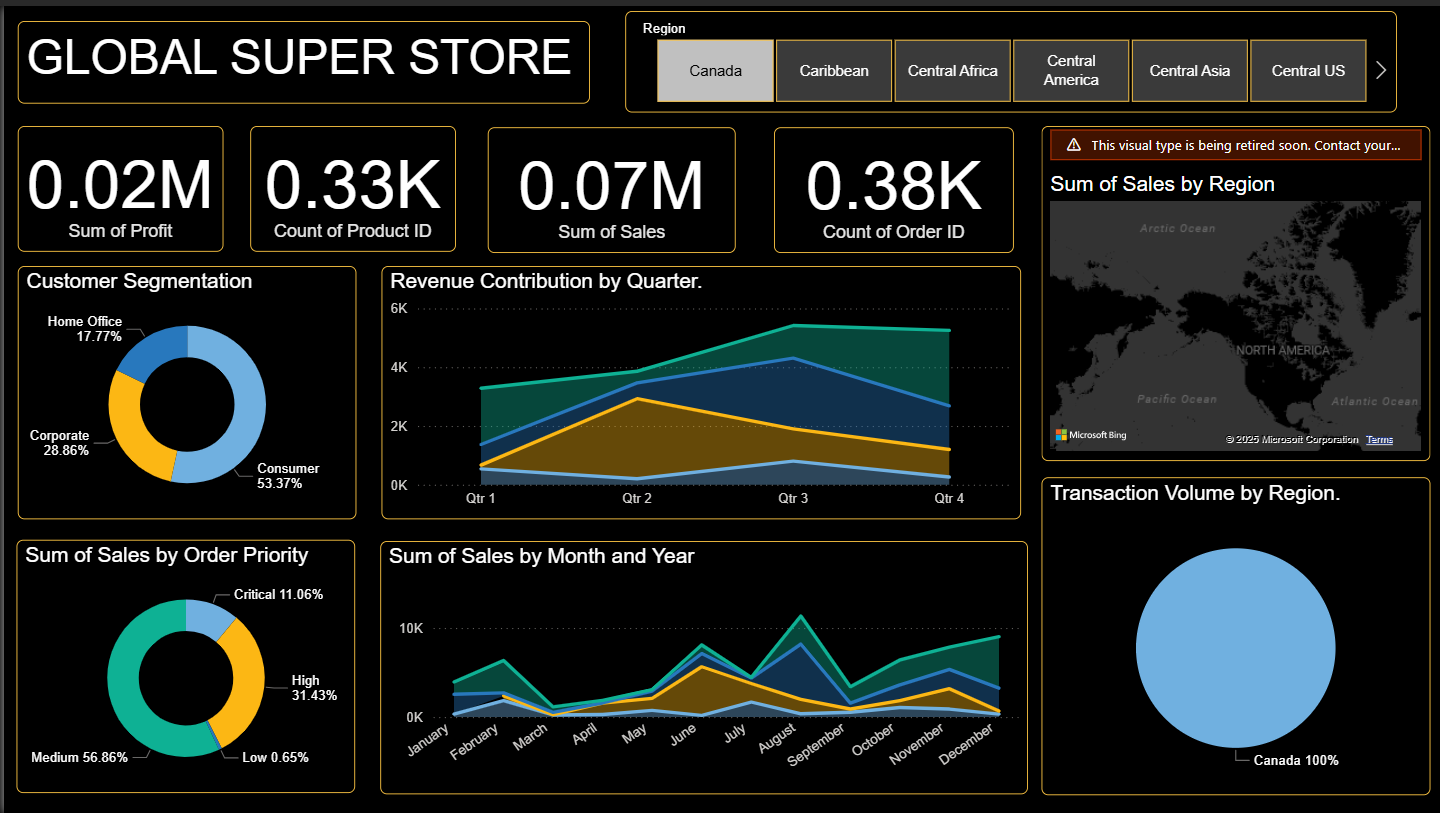

This screenshot's page, from the dashboard's own definition file:
{"tool":"powerbi","page":{"name":"Page 1","canvas":[1280,720],"ordinal":0},"visuals":[{"type":"donutChart","fields":{"Y":["Sum(Orders.Sales)"],"Series":["Orders.Order Priority"]},"box":[11,474.8,301.8,225.8],"z":0},{"type":"stackedAreaChart","fields":{"Category":["Orders.Order Date.Variation.Date Hierarchy.Month"],"Y":["Sum(Orders.Sales)"],"Series":["Orders.Order Date.Variation.Date Hierarchy.Year"]},"box":[335,476.1,576.7,225.8],"z":1000},{"type":"slicer","fields":{"Values":["Orders.Region"]},"box":[553.4,4.9,687.1,90.8],"z":2000},{"type":"card","fields":{"Values":["Count(Orders.Product ID)"]},"box":[219.6,106.7,182.8,111.7],"z":3000},{"type":"donutChart","title":"Customer Segmentation","fields":{"Category":["Orders.Segment"],"Y":["Sum(Orders.Sales)"]},"box":[12.3,231.9,301.8,225.8],"z":4000},{"type":"stackedAreaChart","title":"Revenue Contribution by Quarter.","fields":{"Y":["Sum(Orders.Profit)"],"Category":["Orders.Order Date.Variation.Date Hierarchy.Quarter"],"Series":["Orders.Order Date.Variation.Date Hierarchy.Year"]},"box":[336.2,231.9,569.3,225.8],"z":5000},{"type":"card","fields":{"Values":["Sum(Orders.Sales)"]},"box":[430.7,108,220.9,111.7],"z":6000},{"type":"card","fields":{"Values":["CountNonNull(Orders.Order ID)"]},"box":[685.9,108,213.5,111.7],"z":7000},{"type":"pieChart","title":"Transaction Volume by Region.","fields":{"Category":["Orders.Region"],"Y":["Sum(Orders.Sales)"]},"box":[923.9,419.6,346,283.4],"z":8000},{"type":"map","fields":{"Series":["Orders.Region"],"Size":["Sum(Orders.Sales)"]},"box":[923.9,106.7,346,298.2],"z":9000},{"type":"textbox","box":[12.3,13.5,509.2,73.6],"z":10000},{"type":"card","fields":{"Values":["Sum(Orders.Profit)"]},"box":[12.3,106.7,182.8,111.7],"z":10001}]}

Visuals, with their boxes in screenshot pixels (x1, y1, x2, y2), scaled from the page's 1280x720 canvas onto the 1440x813 screenshot:
donutChart - Sum(Orders.Sales) x Orders.Order Priority: left=12, top=536, right=352, bottom=791
stackedAreaChart - Orders.Order Date.Variation.Date Hierarchy.Month x Sum(Orders.Sales): left=377, top=538, right=1026, bottom=793
slicer - Orders.Region: left=623, top=6, right=1396, bottom=108
card - Count(Orders.Product ID): left=247, top=120, right=453, bottom=247
"Customer Segmentation" donutChart: left=14, top=262, right=353, bottom=517
"Revenue Contribution by Quarter." stackedAreaChart: left=378, top=262, right=1019, bottom=517
card - Sum(Orders.Sales): left=485, top=122, right=733, bottom=248
card - CountNonNull(Orders.Order ID): left=772, top=122, right=1012, bottom=248
"Transaction Volume by Region." pieChart: left=1039, top=474, right=1429, bottom=794
map - Orders.Region x Sum(Orders.Sales): left=1039, top=120, right=1429, bottom=457
textbox: left=14, top=15, right=587, bottom=98
card - Sum(Orders.Profit): left=14, top=120, right=219, bottom=247
